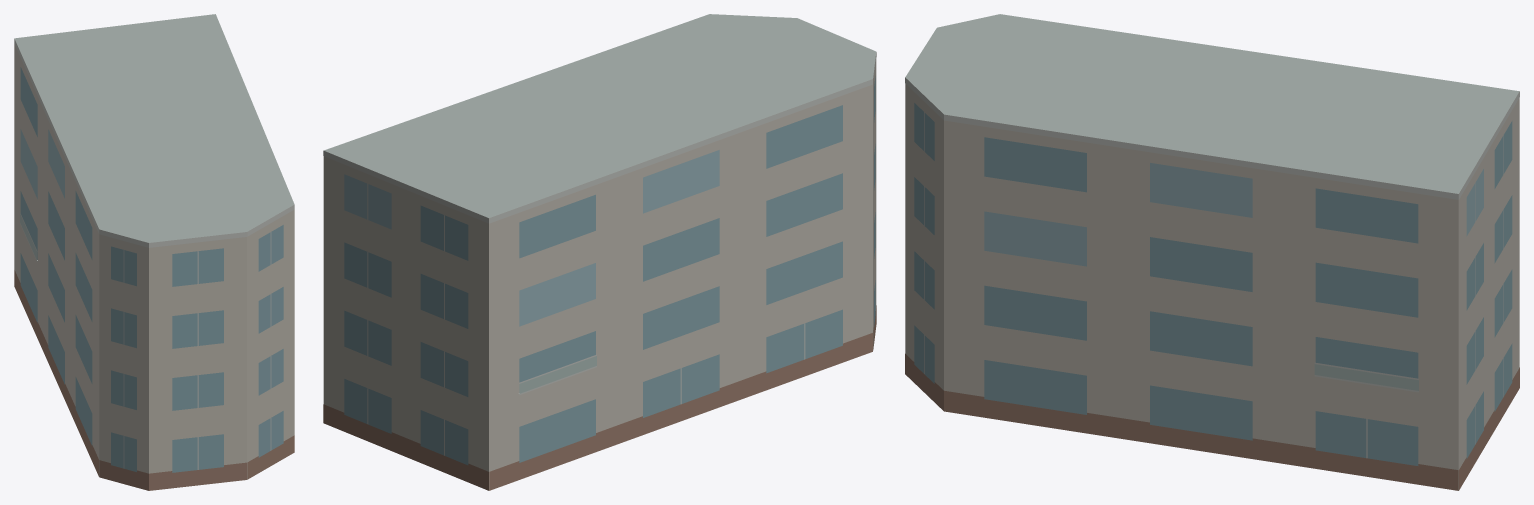
Rendered from residential-83e63741-da2f-4c62-a01c-ce24f7174498.glb.
3 views of the same model, side by side, from view 1: azimuth 30°, elevation 25°; view 2: azimuth 150°, elevation 25°; view 3: azimuth 270°, elevation 25° (orthographic). The views are drawn at different scales.
Visible parts, largest first — view 1: residential-83e63741-da2f-4c62-a01c-ce24f7174498.tmp; view 2: residential-83e63741-da2f-4c62-a01c-ce24f7174498.tmp; view 3: residential-83e63741-da2f-4c62-a01c-ce24f7174498.tmp.
Part boxes in pixels (x1,y1,x2,y2): residential-83e63741-da2f-4c62-a01c-ce24f7174498.tmp: [14, 14, 294, 490]; residential-83e63741-da2f-4c62-a01c-ce24f7174498.tmp: [323, 14, 876, 490]; residential-83e63741-da2f-4c62-a01c-ce24f7174498.tmp: [905, 14, 1519, 490].
Bounding box in the file's own units: 15.88 × 12.2 × 22.9.
